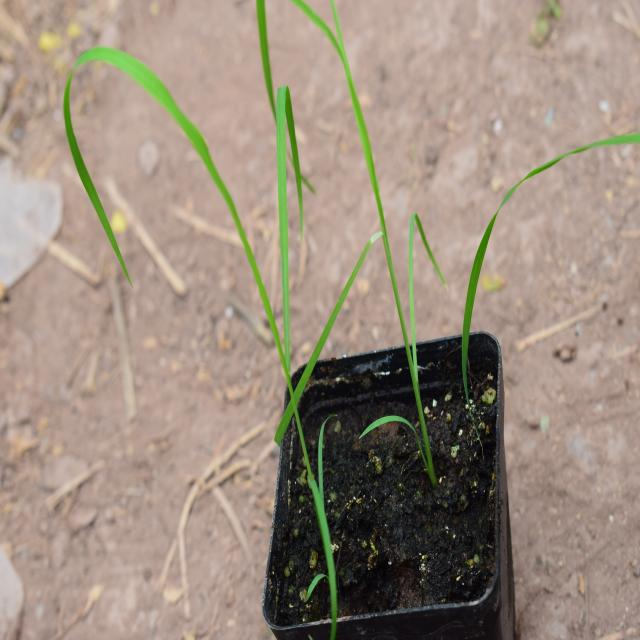barnyard_grass: (48, 0, 474, 408)
